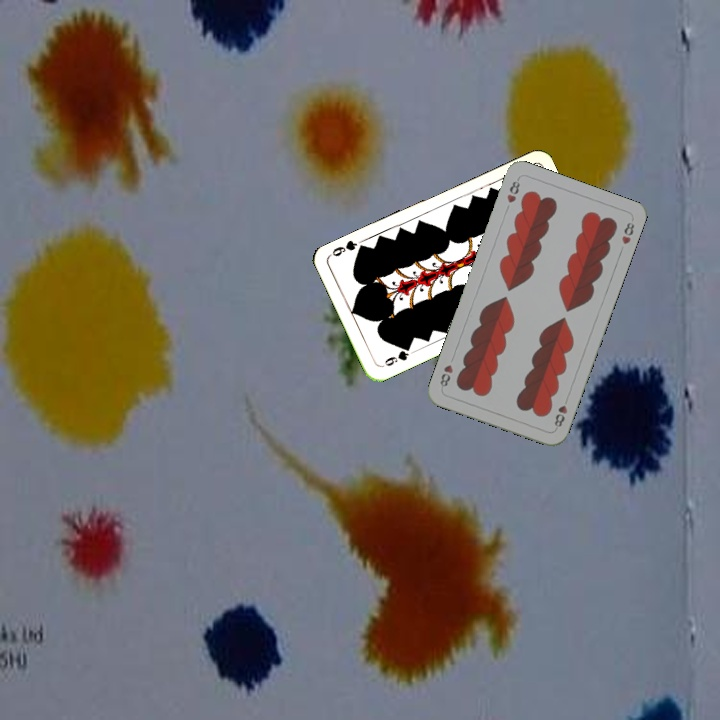G9: (378, 342, 413, 370)
H8: (550, 393, 571, 430), (503, 174, 523, 206)
